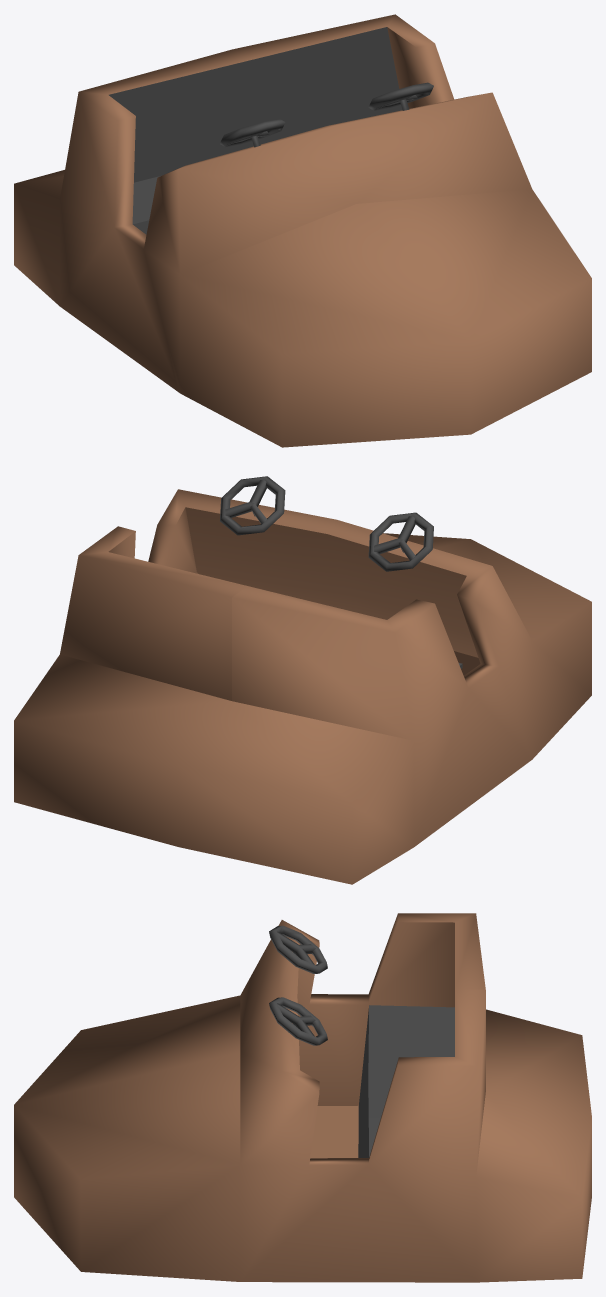
File: Barco_Boat_Pedalo.fbx
3 views of the same model, one above another, from view 1: azimuth 30°, elevation 25°; view 2: azimuth 150°, elevation 25°; view 3: azimuth 270°, elevation 25° (orthographic).
Parts seen in each view (by area): view 1: Boat_Barco; view 2: Boat_Barco; view 3: Boat_Barco.
Boxes of the visible parts, x1,y1,x2,y2 form: Boat_Barco: [14, 14, 591, 447]; Boat_Barco: [14, 476, 591, 884]; Boat_Barco: [14, 913, 591, 1282].
Bounding box in the file's own units: 115 × 72.26 × 164.
